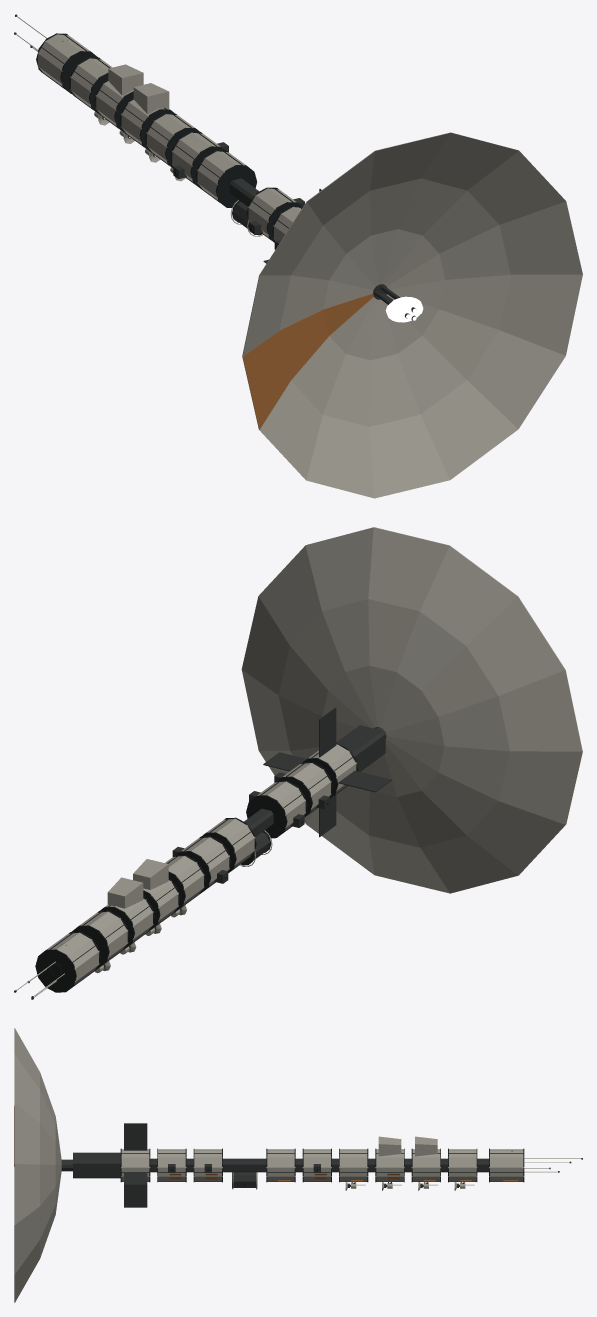
3 views of the same model, one above another, from view 1: azimuth 30°, elevation 25°; view 2: azimuth 150°, elevation 25°; view 3: azimuth 270°, elevation 25° (orthographic). The views are drawn at different scales.
Visible parts, largest first — view 1: RIMWARD_HULL, RIMWARD_ENGINE_GLOW; view 2: RIMWARD_HULL; view 3: RIMWARD_HULL.
Boxes of the visible parts, box(x1,y1,x2,y2) form: RIMWARD_HULL: box(14, 14, 582, 498); RIMWARD_ENGINE_GLOW: box(385, 296, 423, 322); RIMWARD_HULL: box(14, 527, 582, 999); RIMWARD_HULL: box(14, 1028, 582, 1302).
Bounding box in the file's own units: 40.8 × 39.8 × 82.51.
